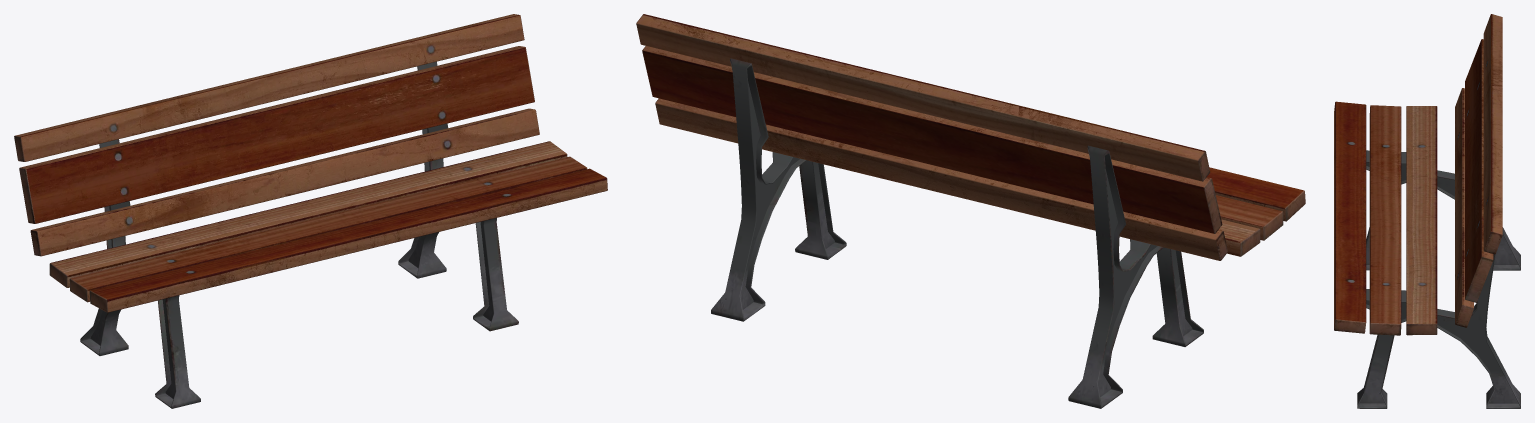
Rendered from park-bench.glb.
3 views of the same model, side by side, from view 1: azimuth 30°, elevation 25°; view 2: azimuth 150°, elevation 25°; view 3: azimuth 270°, elevation 25° (orthographic). The views are drawn at different scales.
Parts seen in each view (by area): view 1: Cube.002 (×2), Cube.001; view 2: Cube.002 (×2), Cube.001; view 3: Cube.002 (×2), Cube.001.
Part boxes in pixels (x1,y1,x2,y2): Cube.002 (×2): [14, 14, 607, 312]; Cube.001: [80, 61, 518, 408]; Cube.002 (×2): [636, 14, 1305, 260]; Cube.001: [711, 58, 1203, 408]; Cube.002 (×2): [1334, 14, 1502, 335]; Cube.001: [1357, 150, 1520, 408].
Size of the model in its own units: 2 by 0.8993 by 0.723.
3 materials, 3 textured.
